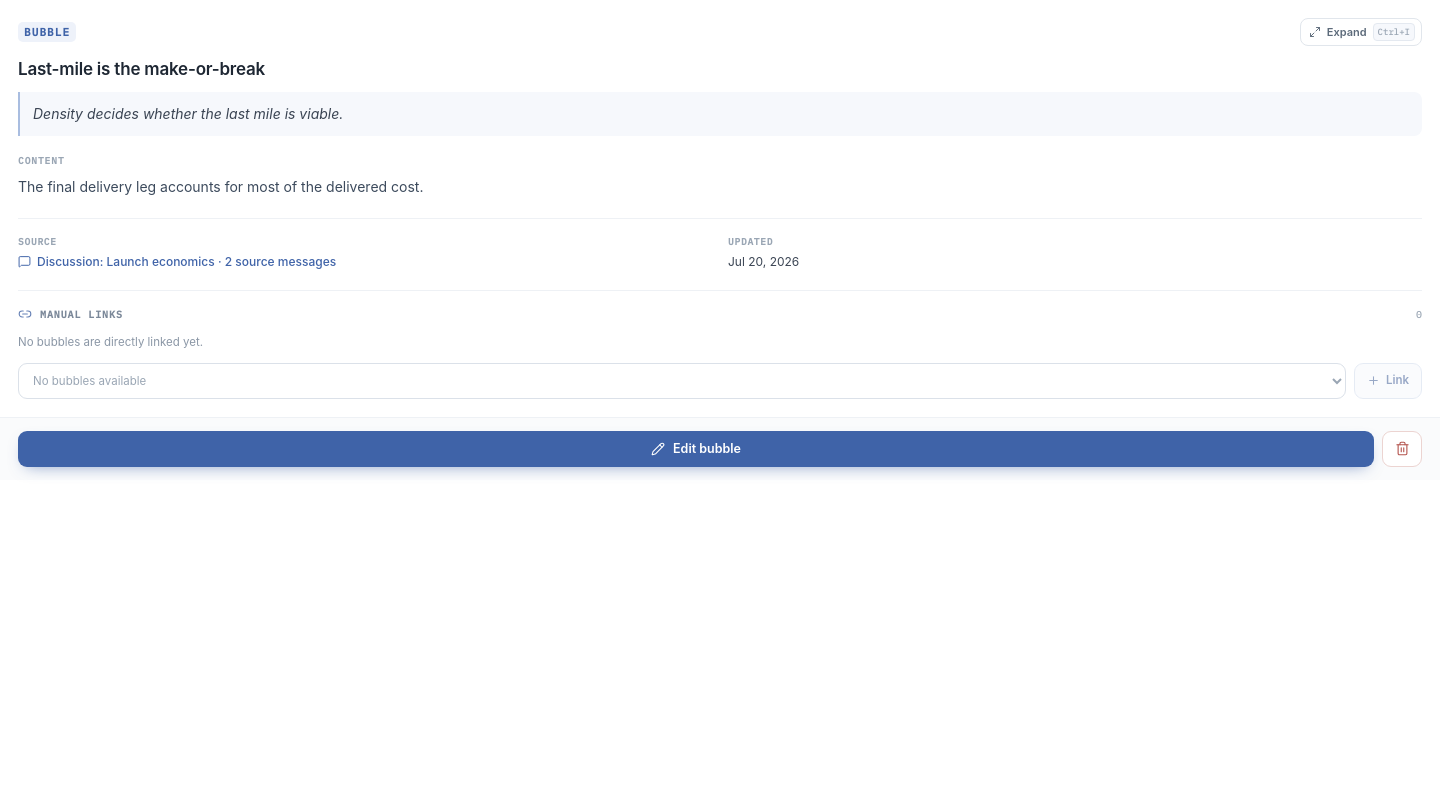
Scenario: BubbleInspector › starts editing from the expanded reading dialog
Click the button "Expand Ctrl+I" at [1361, 32], box left=1300, top=18, right=1422, bottom=46
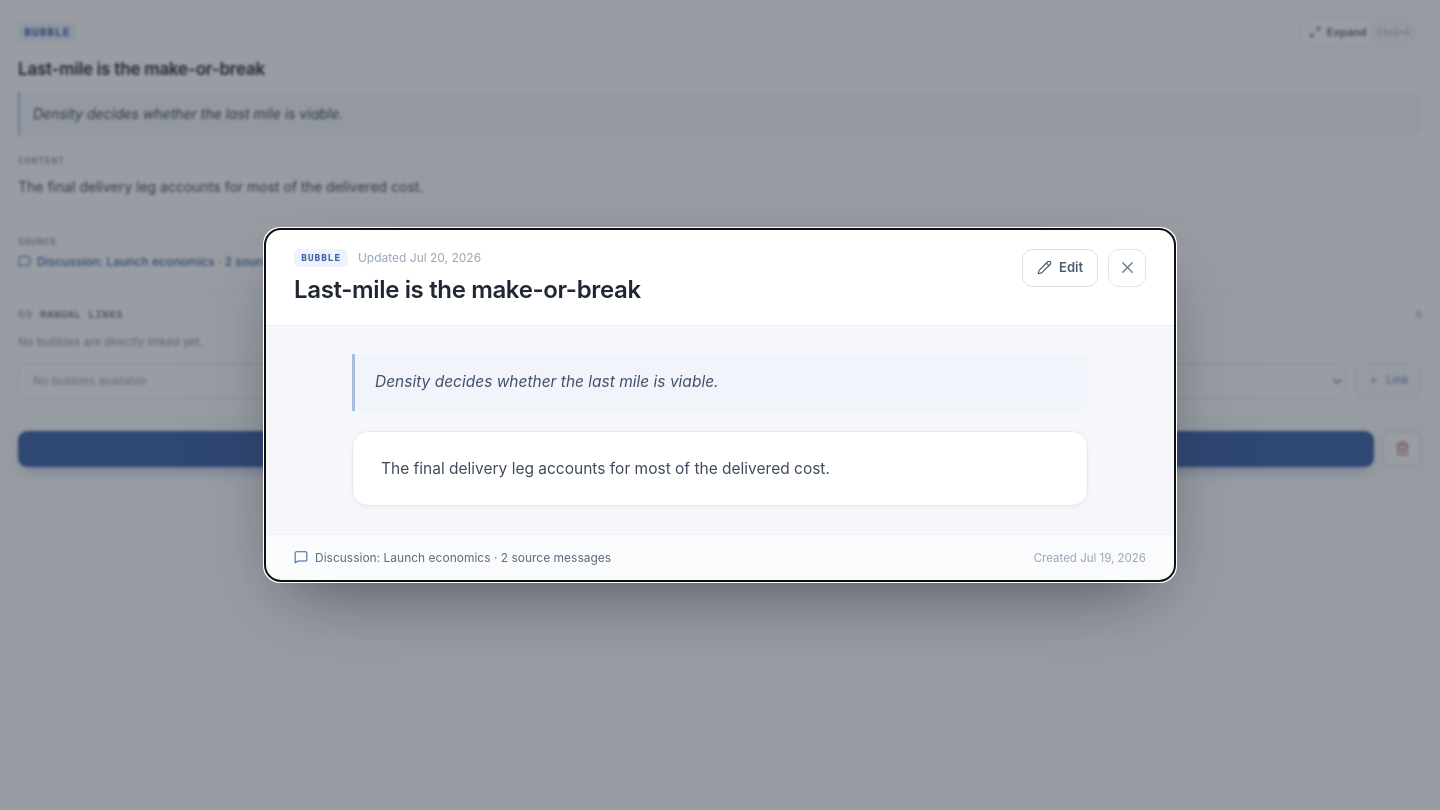
Click the button "Edit" at [1060, 268], box left=1022, top=249, right=1098, bottom=287
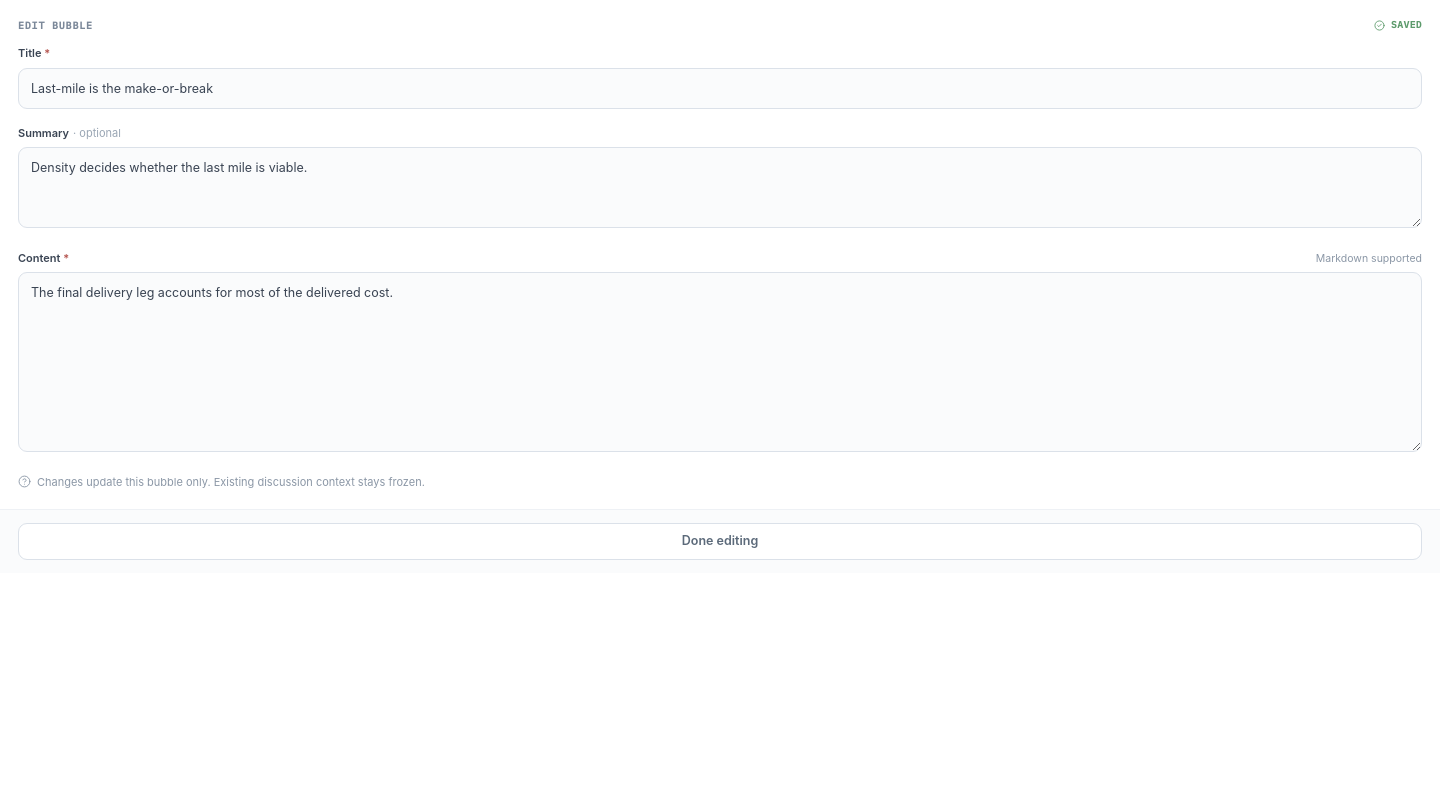
Now the dialog is gone
Now the field labelled "Title *" holds "Last-mile is the make-or-break", box left=18, top=68, right=1422, bottom=109
